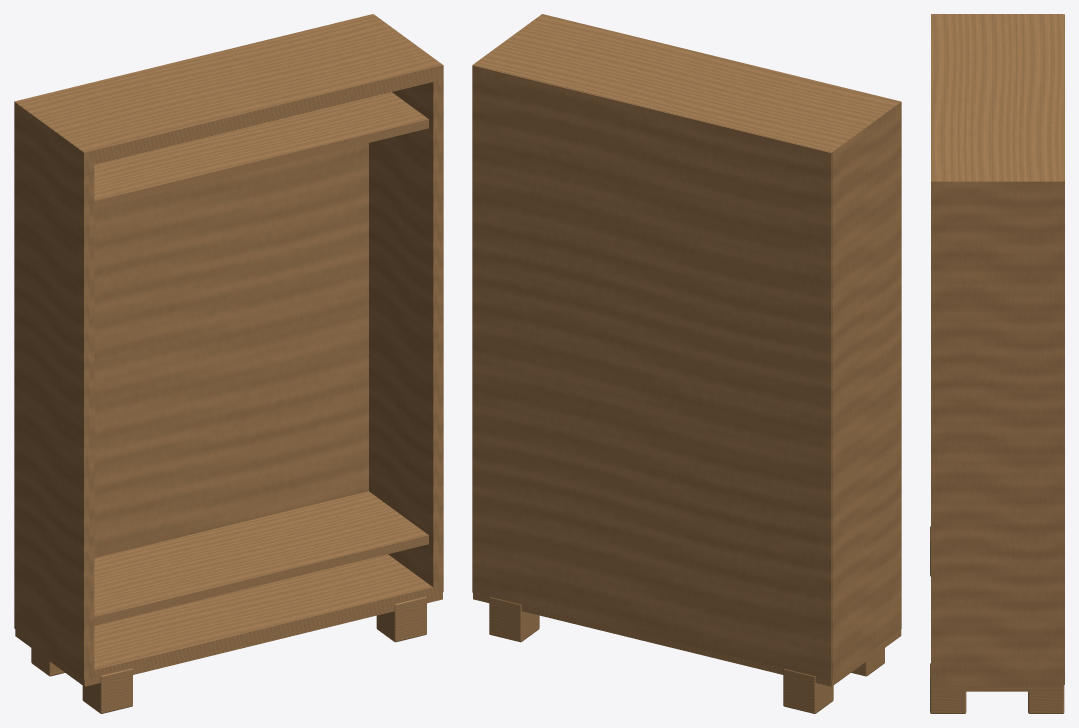
Rendered from bookcase_campus-9594b21dcea4.glb.
3 views of the same model, side by side, from view 1: azimuth 30°, elevation 25°; view 2: azimuth 150°, elevation 25°; view 3: azimuth 270°, elevation 25° (orthographic). The views are drawn at different scales.
Visible parts, largest first — view 1: surface_oak; view 2: surface_oak; view 3: surface_oak.
Part boxes in pixels (x1,y1,x2,y2): surface_oak: (14,14,443,713); surface_oak: (472,14,901,713); surface_oak: (930,14,1064,713).
Size of the model in its own units: 1.02 by 1.53 by 0.346.
1 material, 1 textured.
